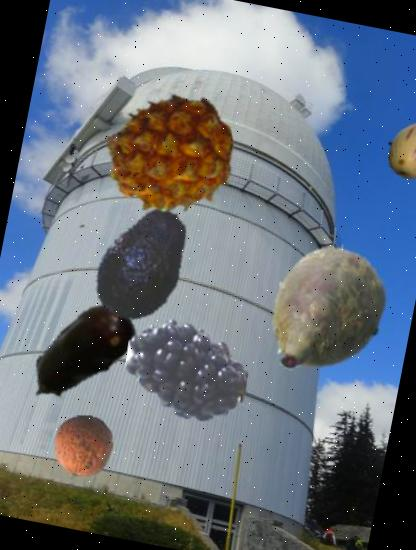Avocado: (72, 193, 216, 337)
Beetroot: (245, 231, 406, 392)
Eggplant: (6, 279, 154, 427)
Mulberry: (114, 297, 258, 441)
Pepino: (376, 116, 416, 185)
Pineapple: (92, 78, 246, 232)
Walnut: (47, 410, 120, 483)
